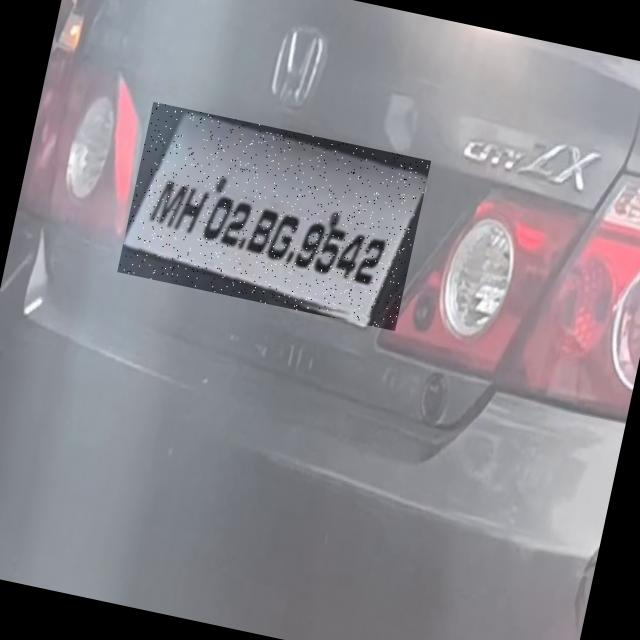Plate: (118, 103, 432, 332)
